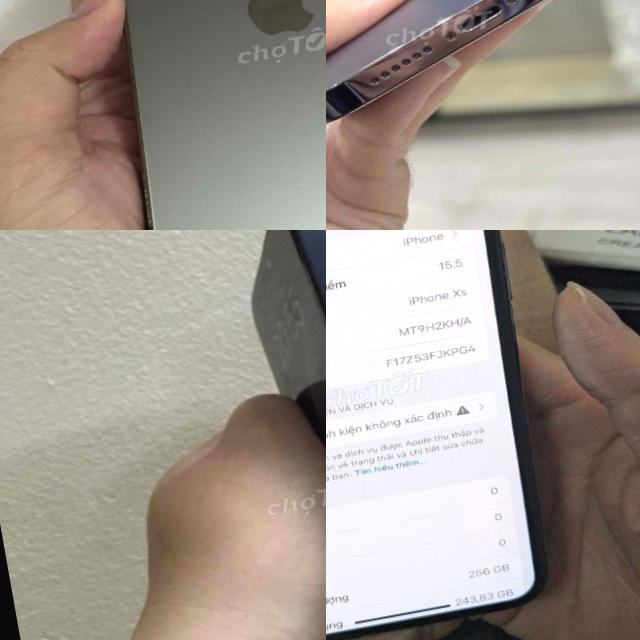gen_12_13: (68, 0, 326, 230)
gen_14: (326, 0, 640, 128)
gen_15: (211, 230, 326, 640)
gen_x_xs: (326, 230, 578, 640)
